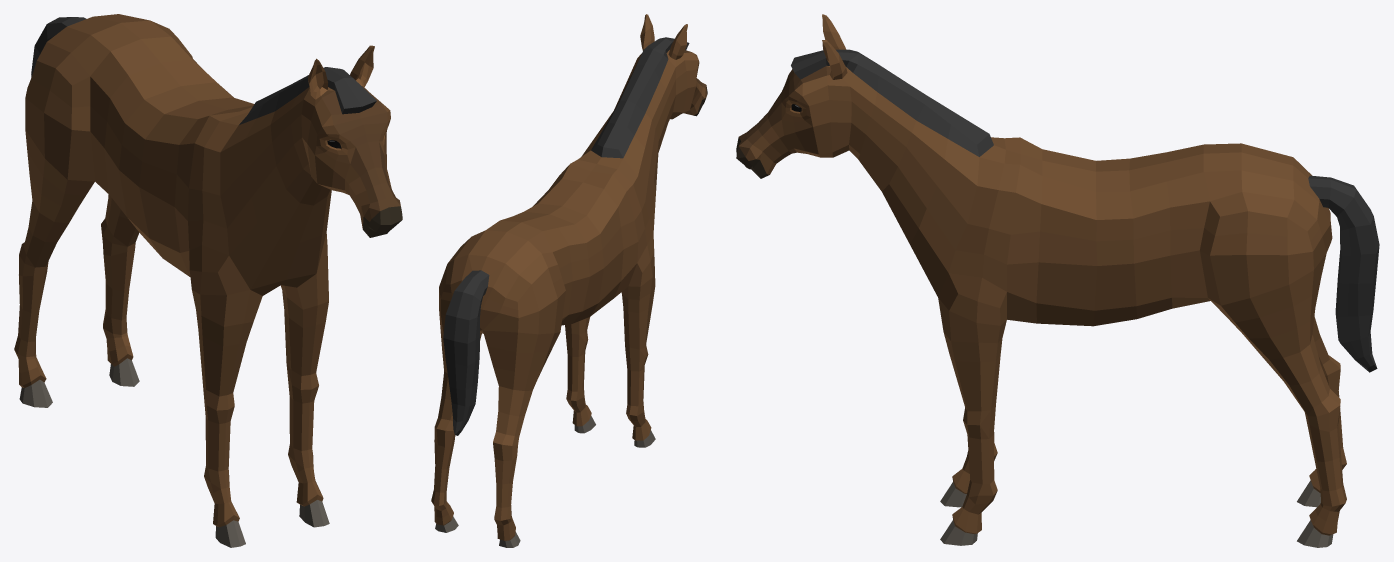
File: horses.glb
3 renders of one model, left to right at view 1: azimuth 30°, elevation 25°; view 2: azimuth 150°, elevation 25°; view 3: azimuth 270°, elevation 25°, orthographic. The views are drawn at different scales.
Parts seen in each view (by area): view 1: Horse; view 2: Horse; view 3: Horse.
Boxes of the visible parts, x1=… form: Horse: x1=14, y1=14, x2=402, y2=547; Horse: x1=431, y1=14, x2=707, y2=547; Horse: x1=736, y1=14, x2=1379, y2=547.
Bounding box in the file's own units: 1.41 × 4.82 × 5.68.
